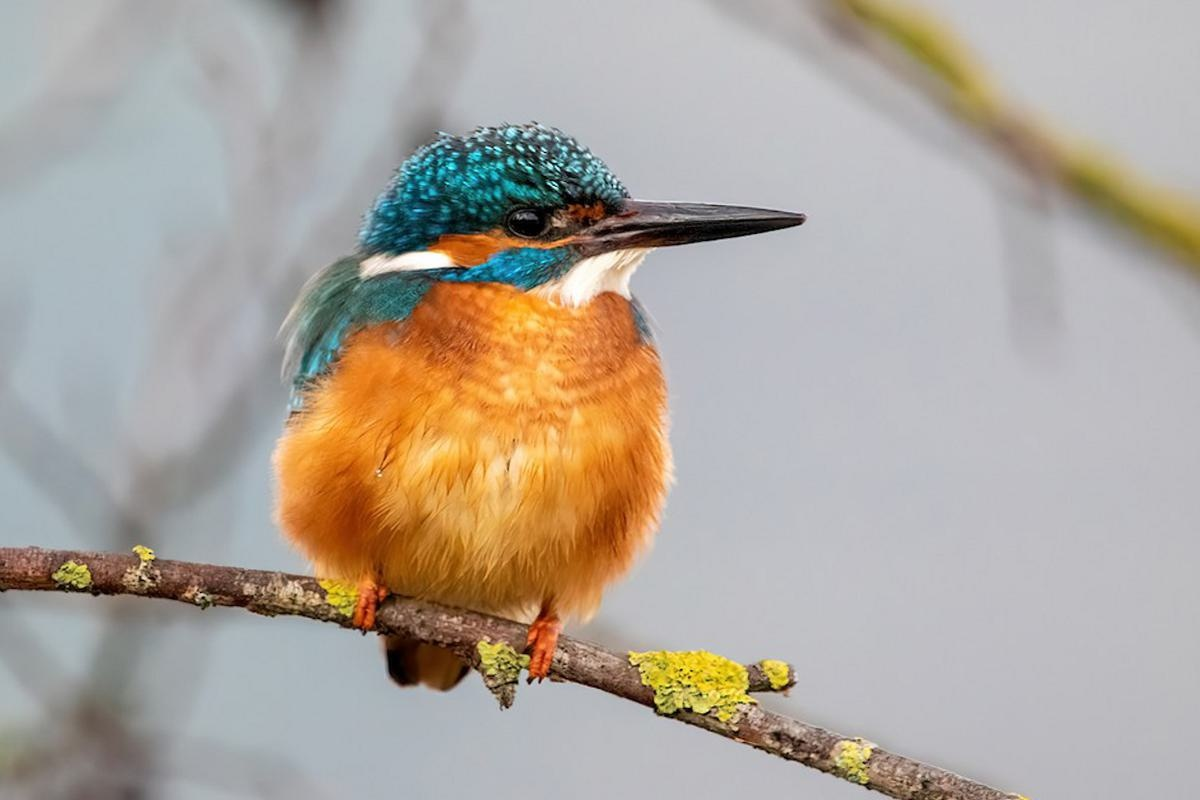kingfisher: (242, 124, 809, 631)
